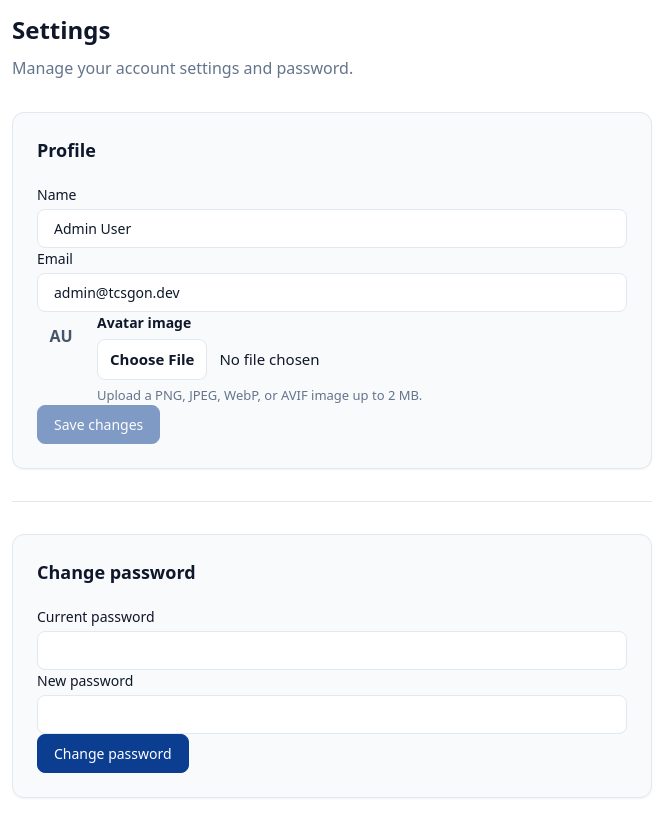
Scenario: SettingsPage › shows validation error for short new password
Expected: the password field labelled "Current password" is shown, x1=37 y1=631 x2=627 y2=670
Type "short" into the password field labelled "New password" at (332, 714), box x1=37 y1=695 x2=627 y2=734
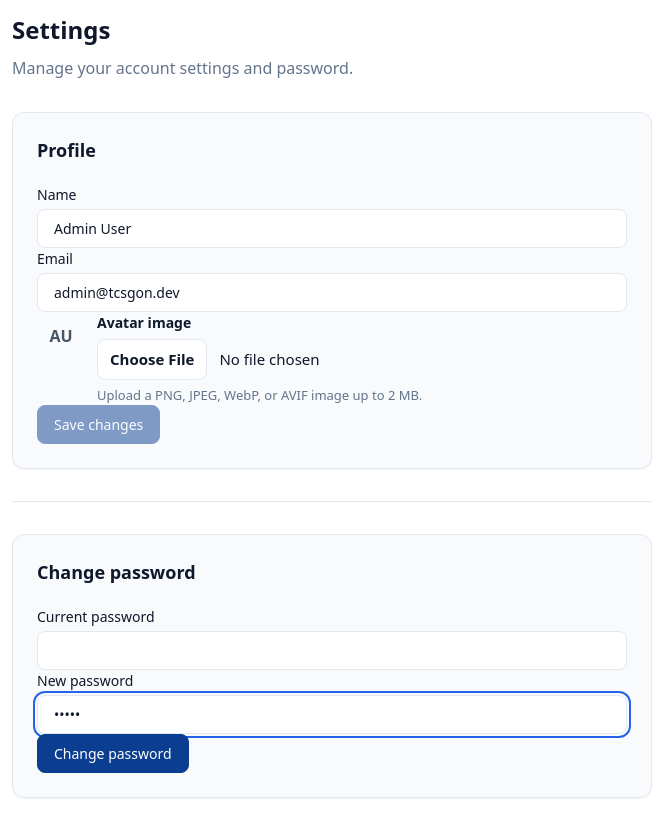
Click the button "Change password" at (113, 754), box x1=37 y1=734 x2=189 y2=773
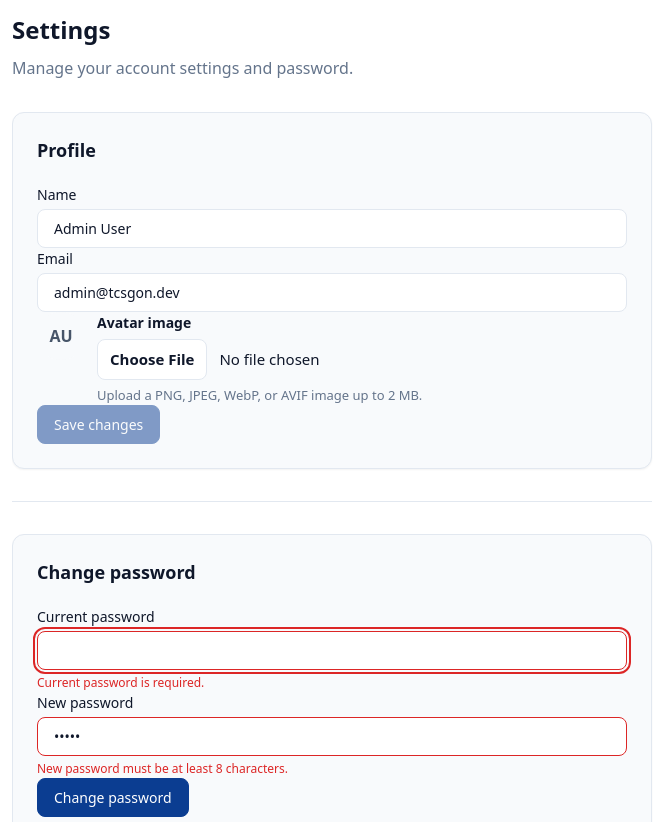
Expected: the text "New password must be at least 8 characters." is shown, x1=37 y1=760 x2=288 y2=777
